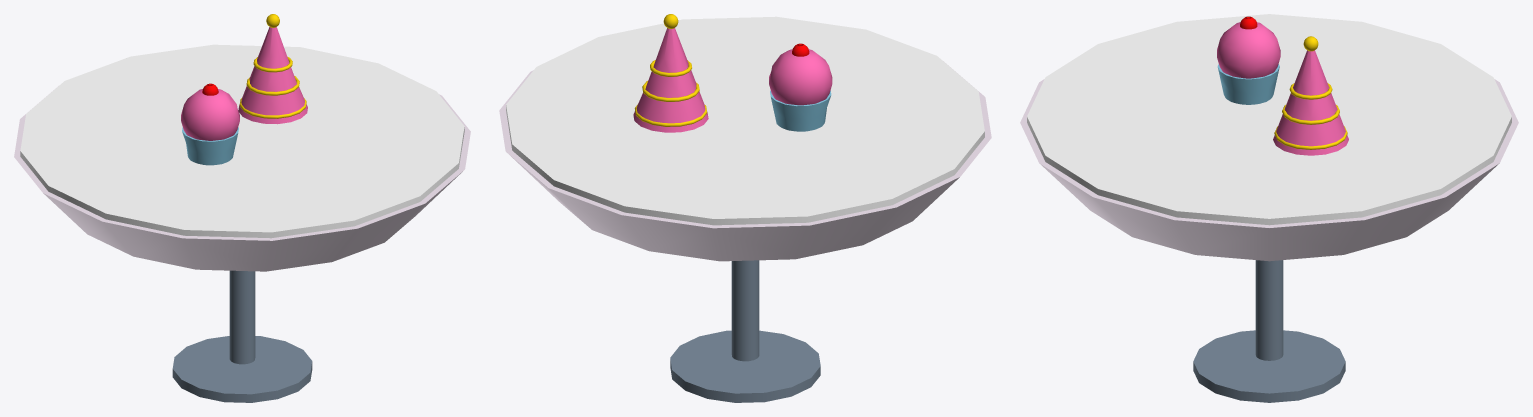
The model's file is party_table.glb.
The picture shows the model from 3 angles, left to right: view 1: azimuth 30°, elevation 25°; view 2: azimuth 150°, elevation 25°; view 3: azimuth 270°, elevation 25°; orthographic projection. The views are drawn at different scales.
Bounding box in the file's own units: 1.44 × 1.15 × 1.44.
